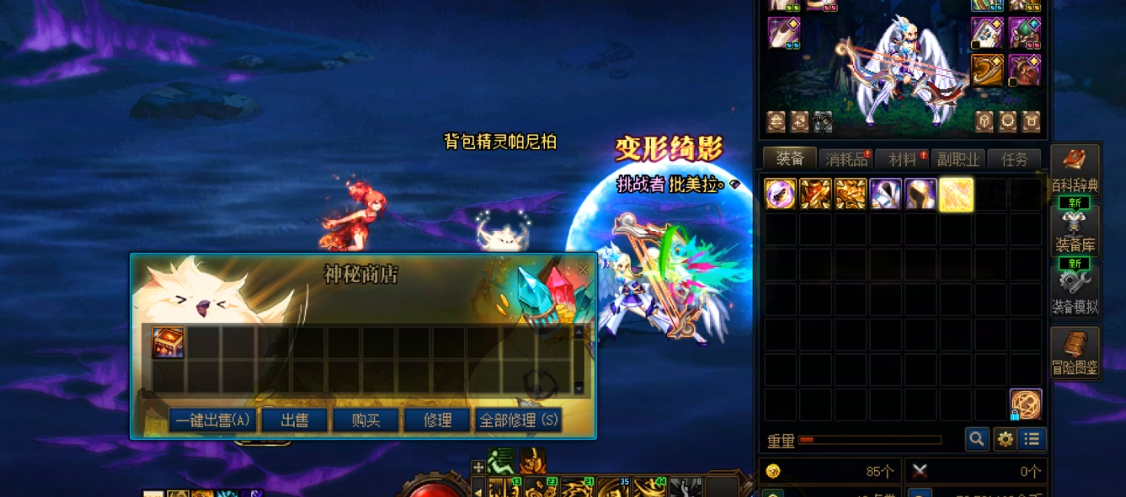smsd: (322, 262, 403, 288)
